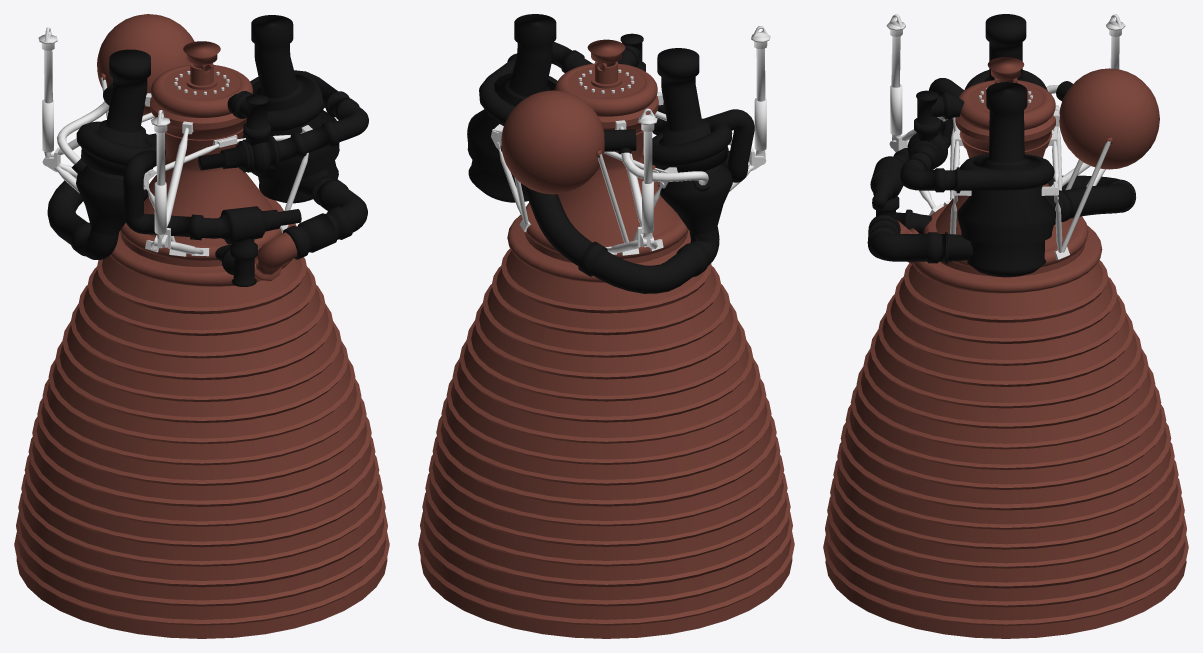
File: Vodo-M-1-Vac.fbx
3 views of the same model, side by side, from view 1: azimuth 30°, elevation 25°; view 2: azimuth 150°, elevation 25°; view 3: azimuth 270°, elevation 25° (orthographic). The views are drawn at different scales.
Parts seen in each view (by area): view 1: Bell, LoxPump, FuelPump.001, Lox_Pipe, FuelPipe1, StartTank, Bell.004, GimbalFrame1, topfeeder, FuelDonut, BezierCurve.003, SupportFrame (+7 smaller); view 2: Bell, FuelPump.001, StartTank, LoxPump, Lox_Pipe, BezierCurve, Bell.004, FuelDonut, FuelPipe1, topfeeder, GimbalFrame1, SupportFrame (+8 smaller); view 3: Bell, LoxPump, StartTank, Lox_Pipe, Bell.004, FuelPipe1, FuelPump.001, SupportFrame, BezierCurve, GimbalFrame1, StartTankSupport, Piston (+4 smaller).
Boxes of the visible parts, x1,y1,x2,y2 form: Bell: (14, 65, 389, 638); LoxPump: (242, 15, 367, 259); FuelPump.001: (47, 49, 243, 259); Lox_Pipe: (198, 70, 368, 172); FuelPipe1: (123, 150, 301, 286); StartTank: (97, 14, 194, 115); Bell.004: (110, 223, 296, 286); GimbalFrame1: (42, 93, 209, 256); topfeeder: (163, 63, 240, 99); FuelDonut: (76, 121, 156, 166); BezierCurve.003: (254, 232, 297, 281); SupportFrame: (141, 112, 312, 256); Bell: (418, 63, 794, 638); FuelPump.001: (521, 48, 732, 293); StartTank: (501, 90, 604, 194); LoxPump: (467, 14, 556, 202); Lox_Pipe: (479, 33, 665, 124); BezierCurve: (523, 185, 592, 266); Bell.004: (507, 215, 690, 282); FuelDonut: (652, 120, 732, 167); FuelPipe1: (652, 109, 754, 182); topfeeder: (567, 61, 645, 98); GimbalFrame1: (605, 91, 766, 254); SupportFrame: (491, 111, 677, 255); Bell: (823, 80, 1188, 638); LoxPump: (867, 82, 1055, 277); StartTank: (1059, 68, 1159, 169); Lox_Pipe: (900, 90, 1054, 193); Bell.004: (912, 225, 1102, 293); FuelPipe1: (870, 78, 964, 233); FuelPump.001: (984, 14, 1136, 224); SupportFrame: (943, 105, 1069, 260); BezierCurve: (1063, 183, 1133, 218); GimbalFrame1: (889, 106, 1105, 215); StartTankSupport: (1061, 141, 1110, 252); Piston: (886, 14, 905, 87).
Size of the model in its own units: 281 by 429 by 281.
